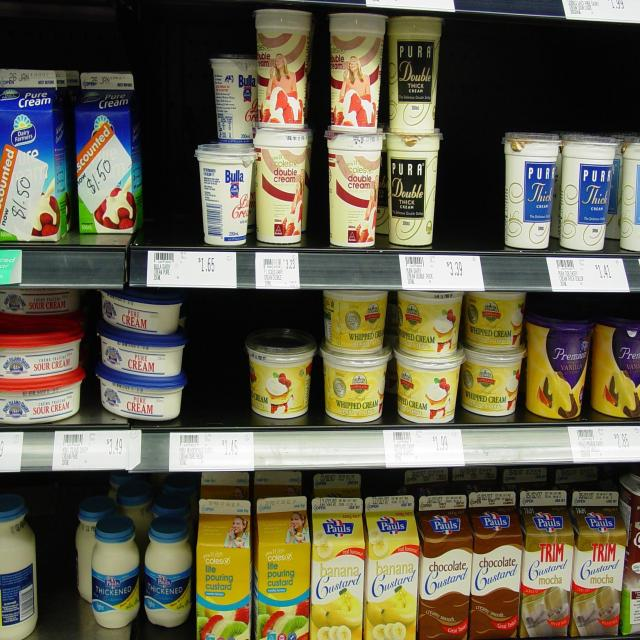void: (441, 69, 506, 252), (139, 70, 199, 244), (190, 284, 243, 426), (39, 508, 73, 615)
